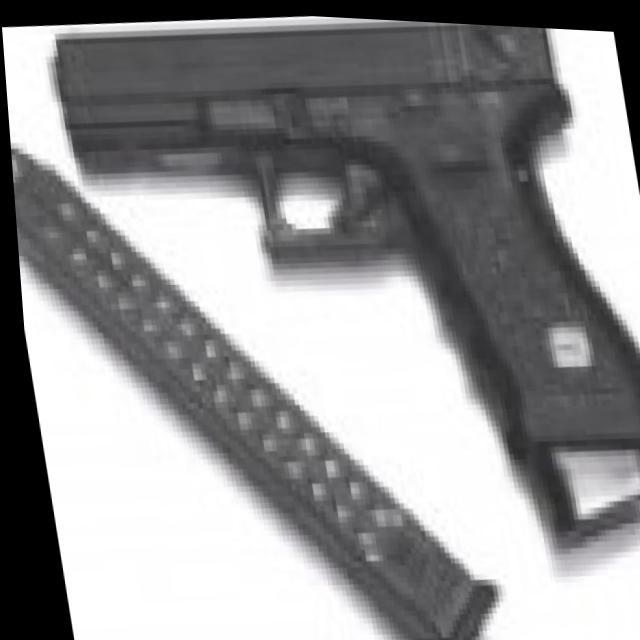weapon: (42, 2, 640, 585), (6, 101, 497, 640)
